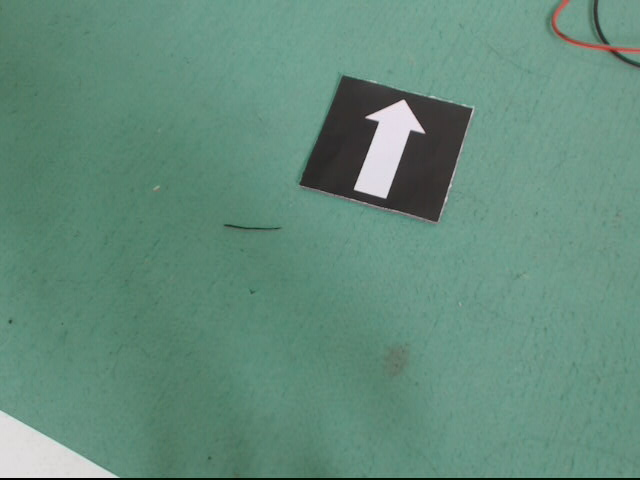straight: (299, 75, 475, 223)
